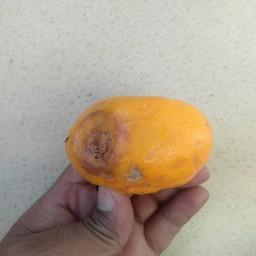Bad_orange: (63, 92, 212, 188)
